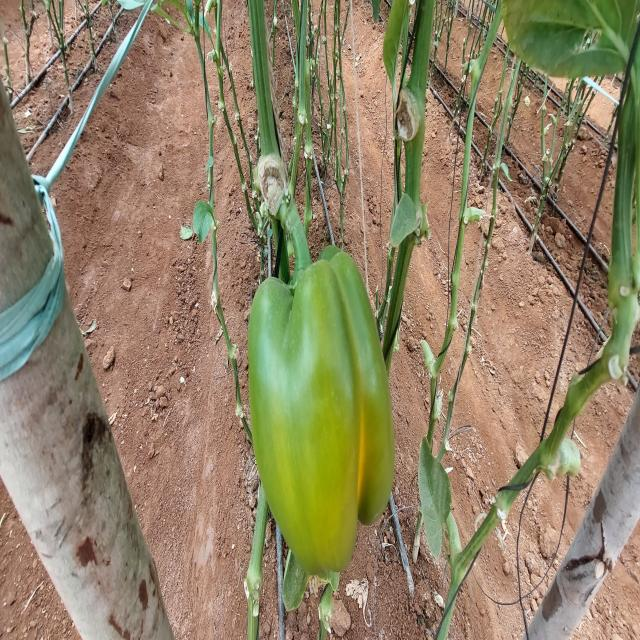GreenishYellow--Can-be-Harvested: (254, 252, 398, 574)
